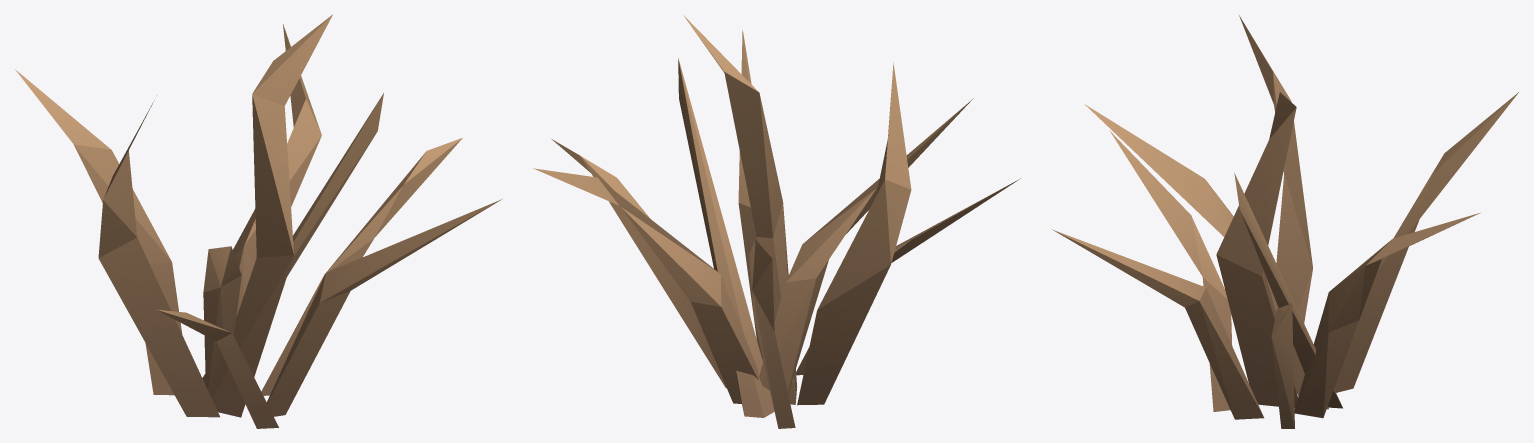
Rendered from dry-foliage.fbx.
The picture shows the model from 3 angles, left to right: view 1: azimuth 30°, elevation 25°; view 2: azimuth 150°, elevation 25°; view 3: azimuth 270°, elevation 25°; orthographic projection. The views are drawn at different scales.
Parts seen in each view (by area): view 1: dry-grass; view 2: dry-grass; view 3: dry-grass.
Part boxes in pixels (<box>): dry-grass: <box>15,14,501,428</box>; dry-grass: <box>533,15,1020,428</box>; dry-grass: <box>1052,15,1518,428</box>.
Bounding box in the file's own units: 1.3 × 1.15 × 1.35.
